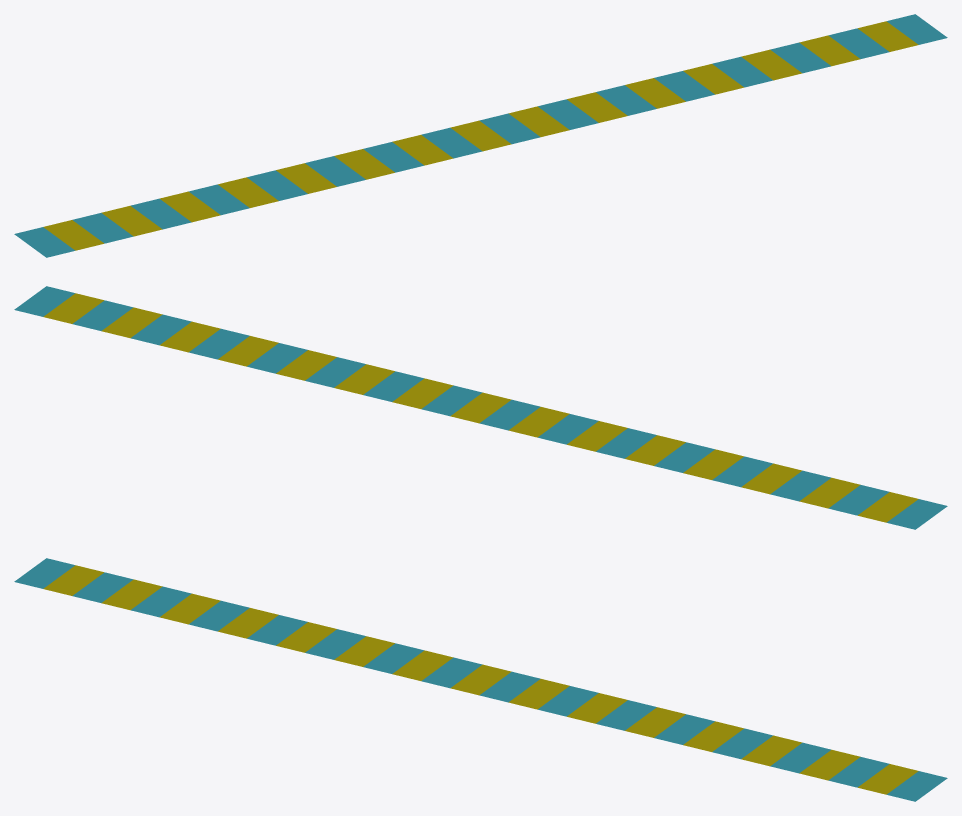
The model's file is rigg1d.obj.
The picture shows the model from 3 angles, top to bottom: view 1: azimuth 30°, elevation 25°; view 2: azimuth 150°, elevation 25°; view 3: azimuth 330°, elevation 25°; orthographic projection.
Parts seen in each view (by area): view 1: rigg1d; view 2: rigg1d; view 3: rigg1d.
Part boxes in pixels (bbox=[...]): rigg1d: bbox=[14, 14, 947, 257]; rigg1d: bbox=[14, 286, 947, 529]; rigg1d: bbox=[14, 558, 947, 801].
Size of the model in its own units: 16 by 0 by 1.
